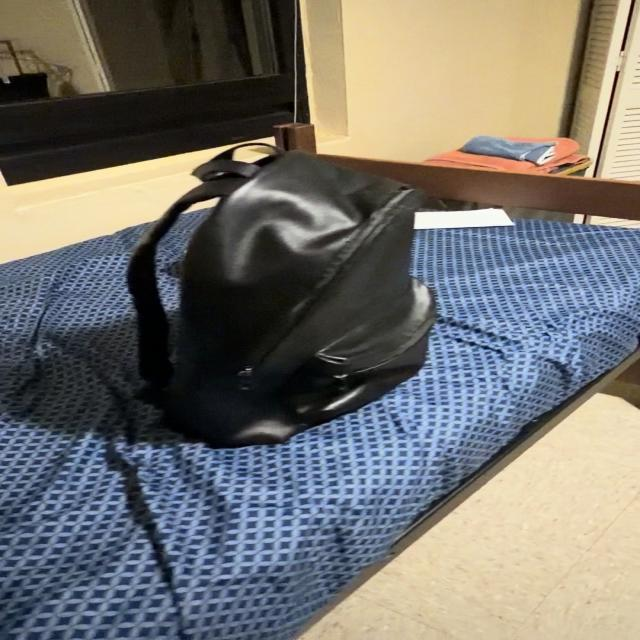backpack: (128, 147, 434, 446), (239, 145, 247, 146), (250, 144, 254, 146)
